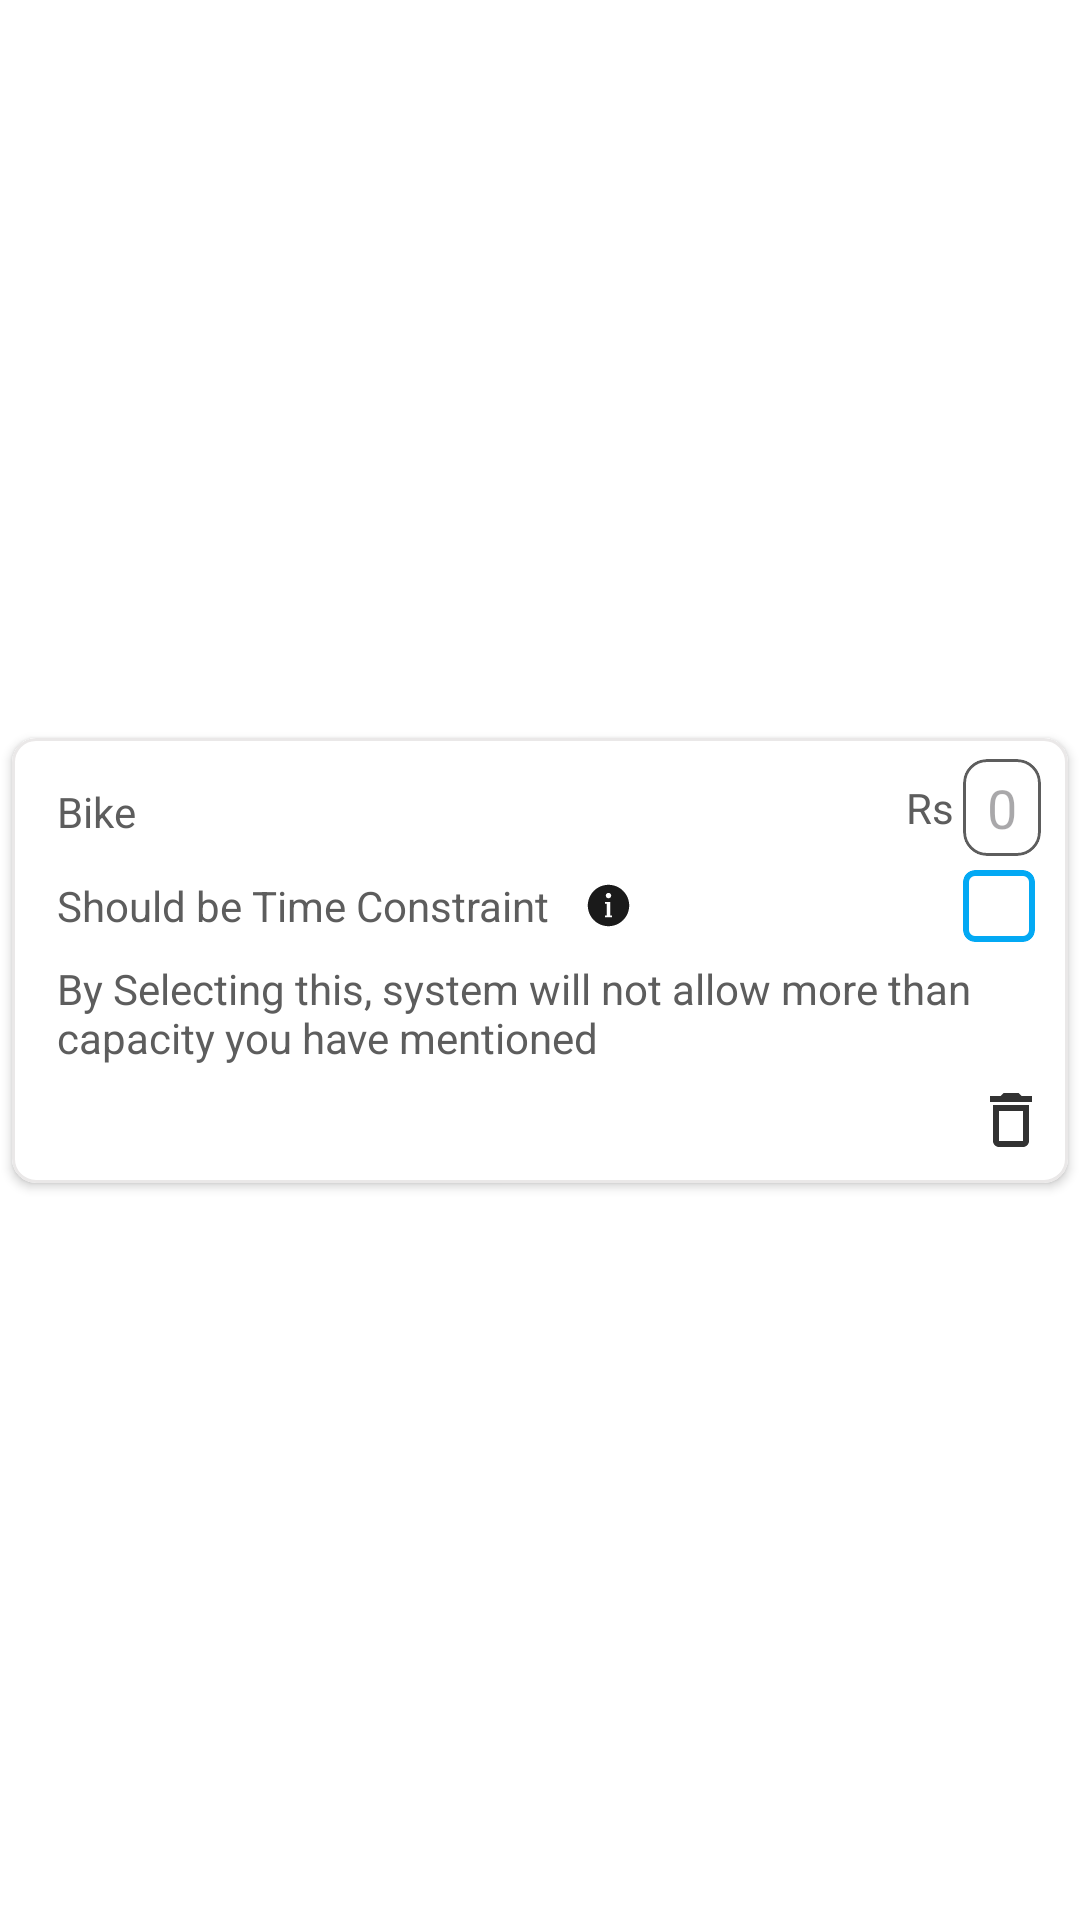

Screen size 1080px×1920px. Icon name, then its box in pixels as (x1, y1, x2, y2):
delete: (990, 1093, 1032, 1147)
info: (587, 884, 630, 927)
